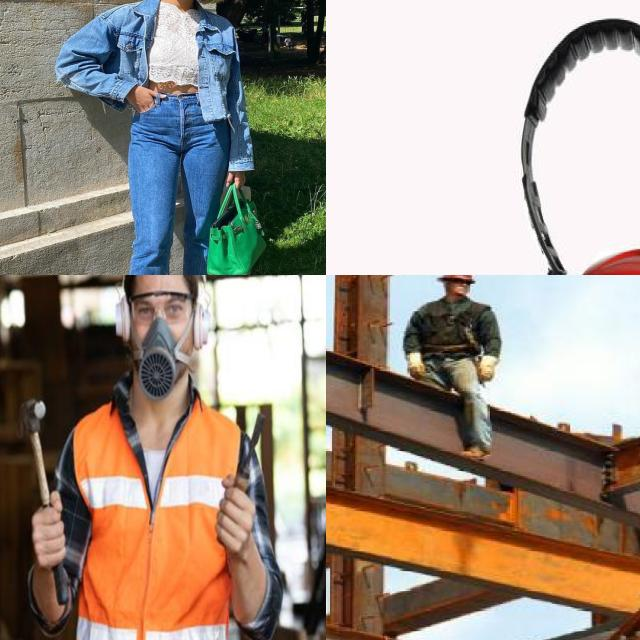Ear-protection: (478, 0, 640, 275), (109, 275, 222, 405)
Harness: (419, 300, 493, 366)
person: (9, 275, 295, 640)
